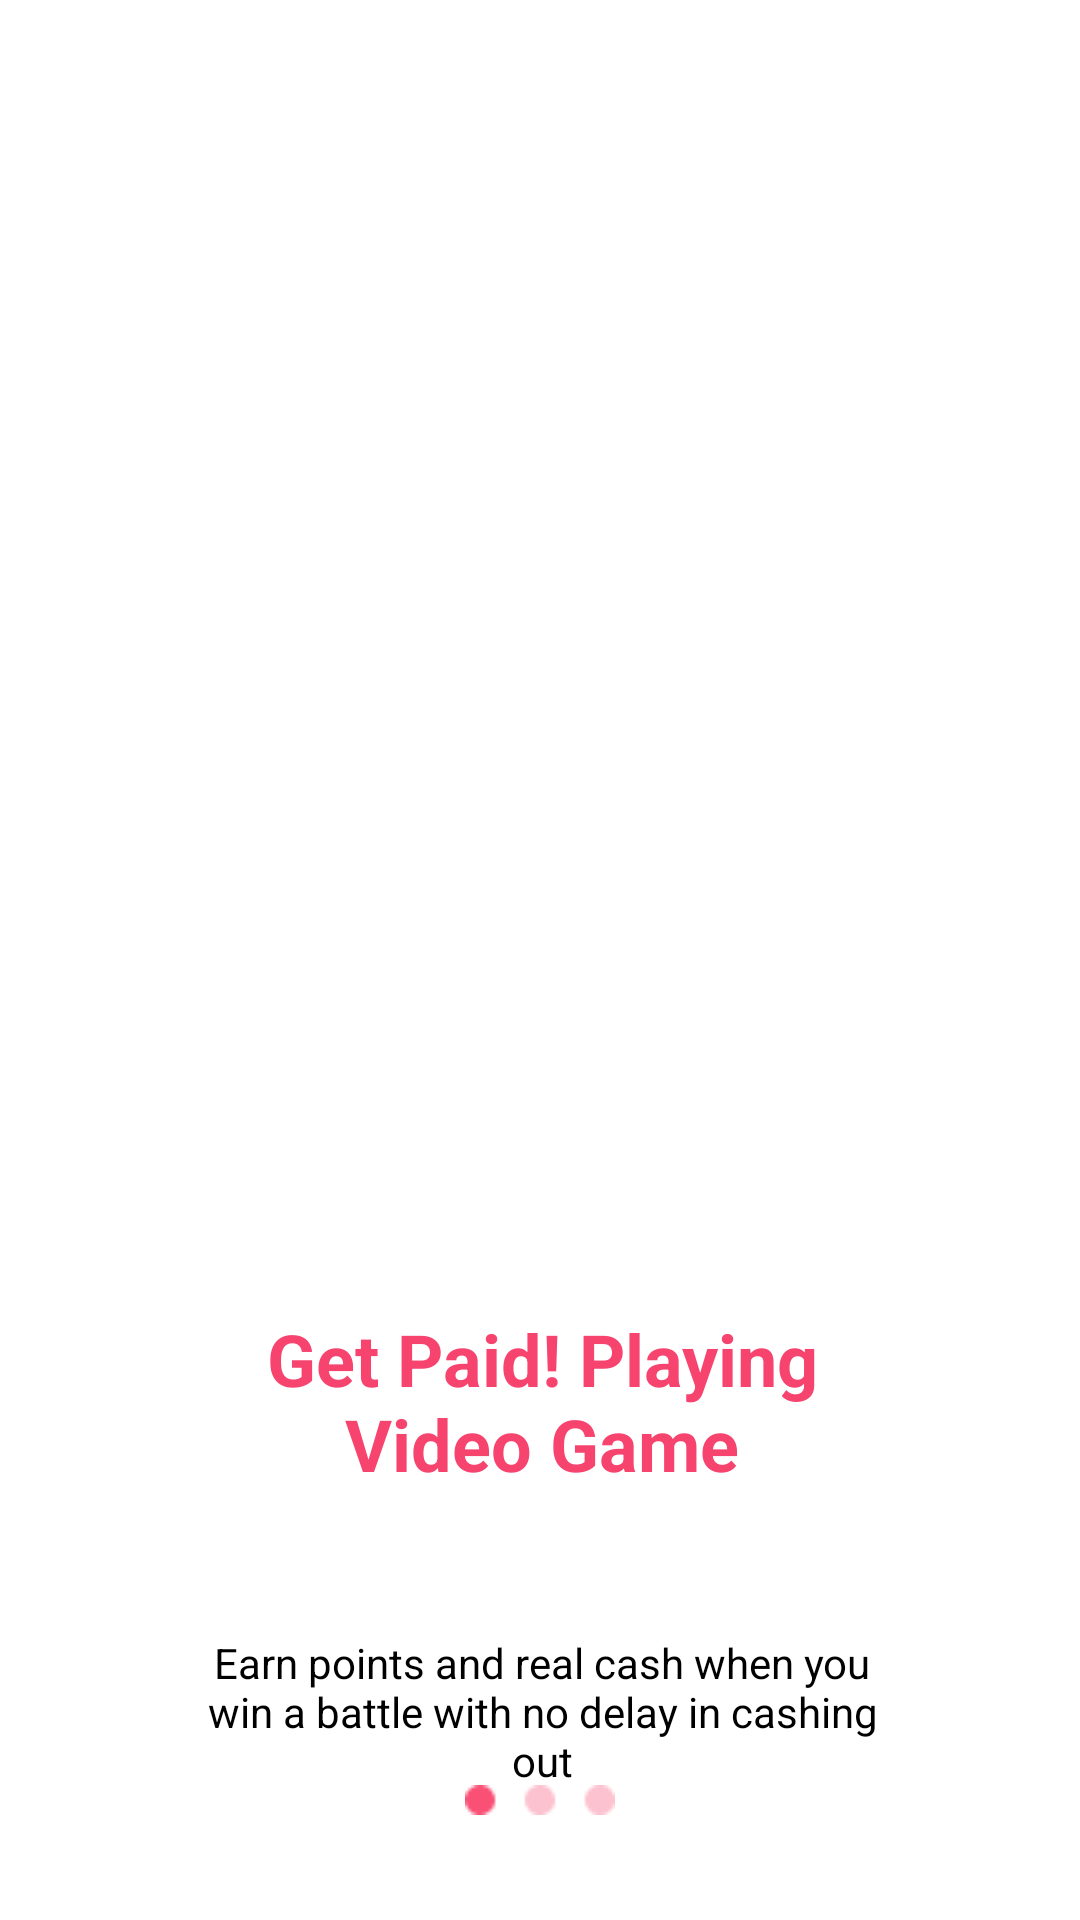

Where icons sit on this 1080px x 1920px app screen, as (x1,y1,x2,y2):
slider dots: (465,1785,615,1815)
